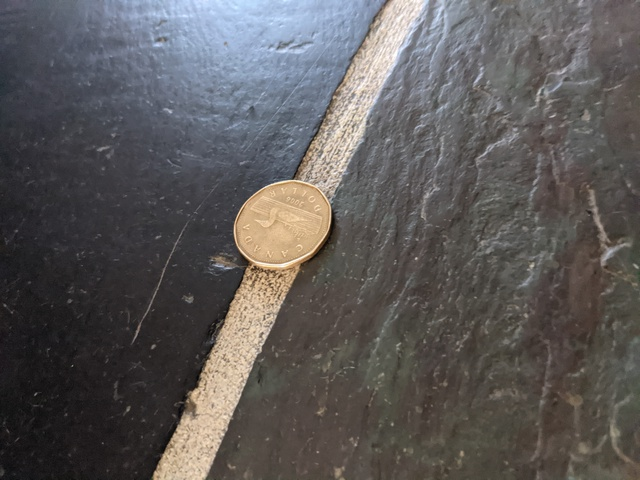loonie: (227, 172, 342, 270)
